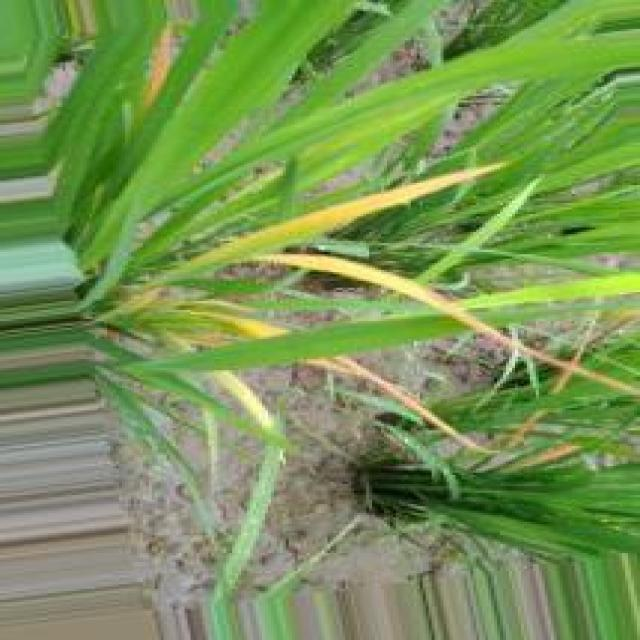Rice Tungro: (255, 254, 639, 396), (179, 163, 507, 272), (305, 357, 492, 452), (189, 312, 289, 338)
